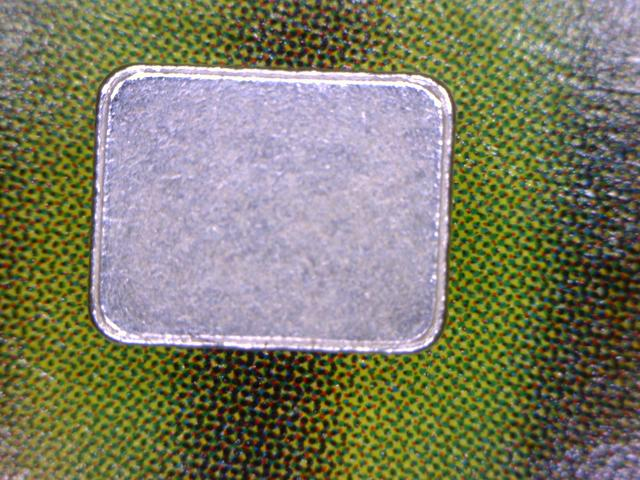nok: (85, 59, 456, 366)
